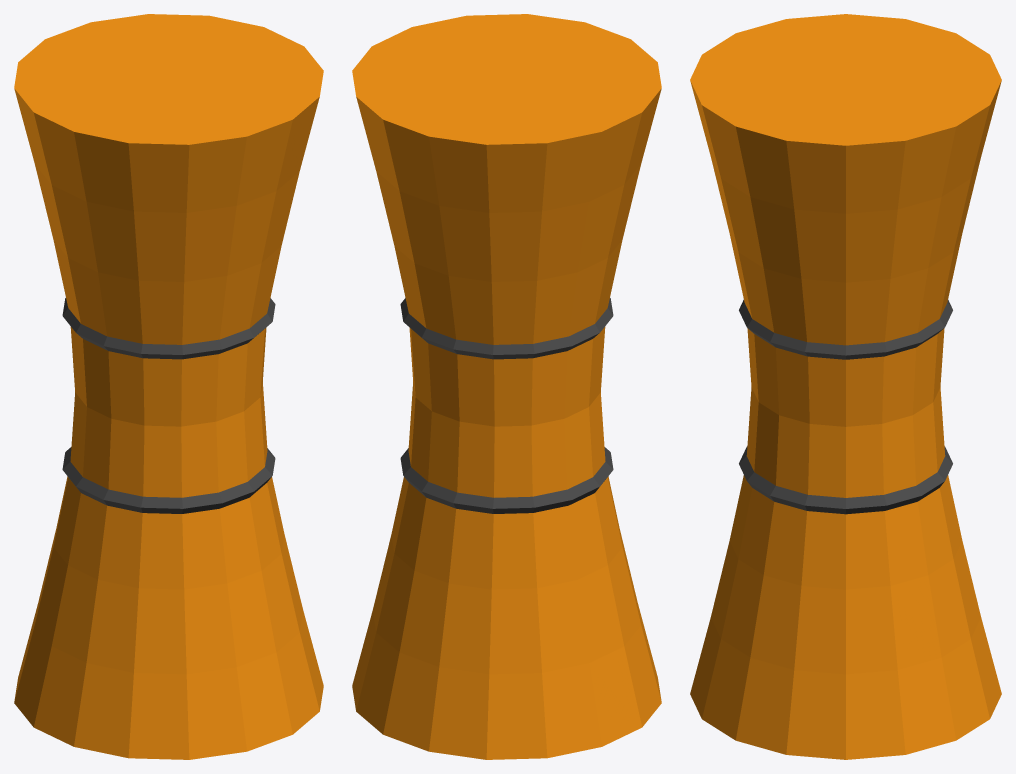
Rendered from hay.fbx.
The picture shows the model from 3 angles, left to right: view 1: azimuth 30°, elevation 25°; view 2: azimuth 150°, elevation 25°; view 3: azimuth 270°, elevation 25°; orthographic projection.
Visible parts, largest first — view 1: hay; view 2: hay; view 3: hay.
Part boxes in pixels (x1=…): hay: x1=14, y1=14, x2=323, y2=759; hay: x1=352, y1=14, x2=661, y2=759; hay: x1=690, y1=14, x2=1001, y2=759.
Bounding box in the file's own units: 92.05 × 200 × 92.05.
